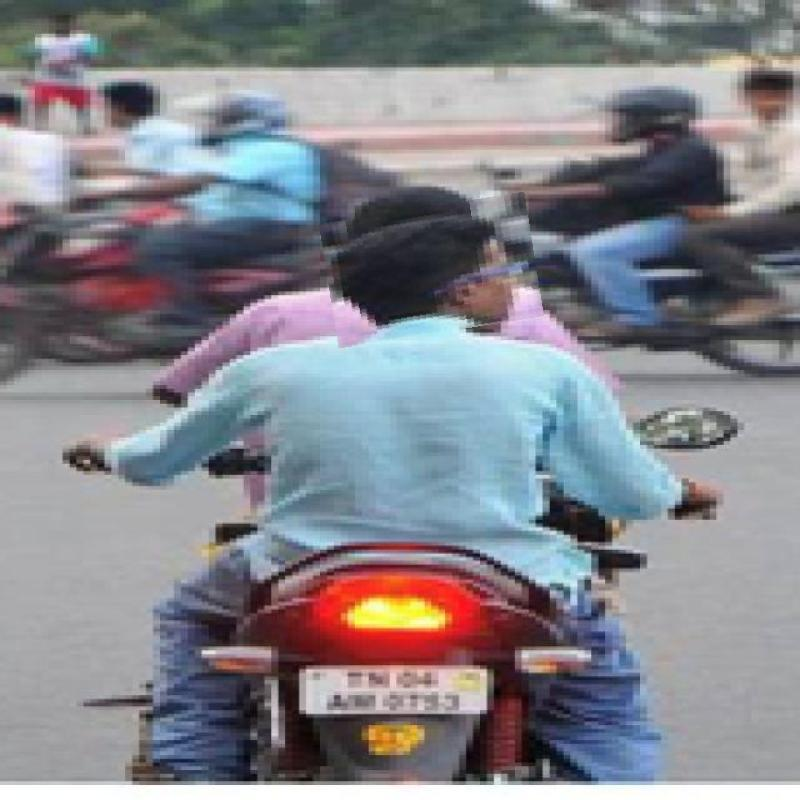nohelmet: (324, 200, 540, 341)
